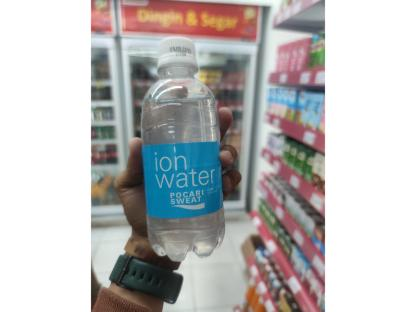Plastic Bottle: (107, 32, 247, 268)
